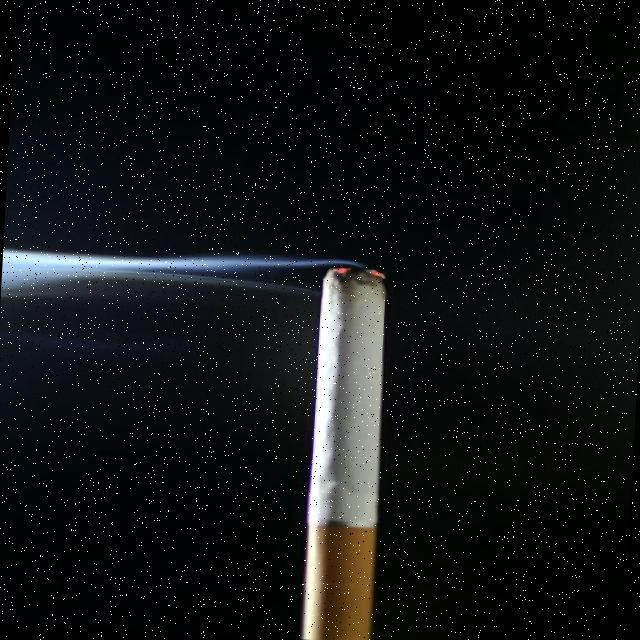cigarette: (297, 255, 397, 640)
